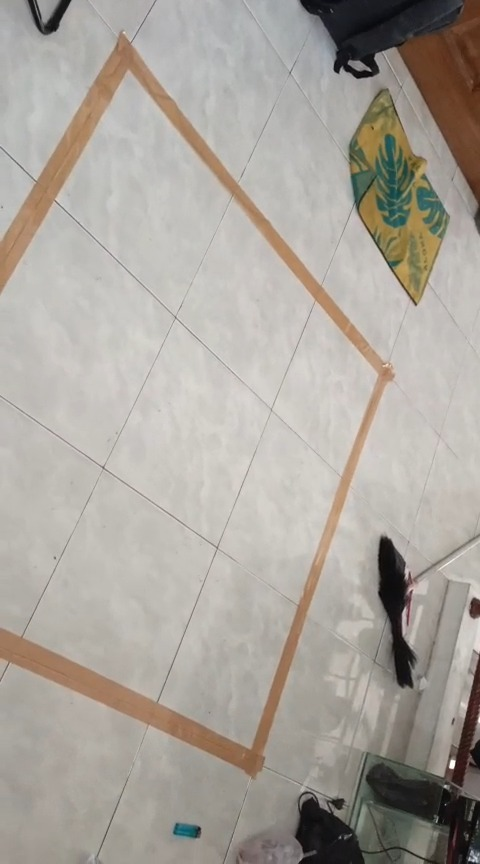floor marking: (0, 34, 393, 777)
